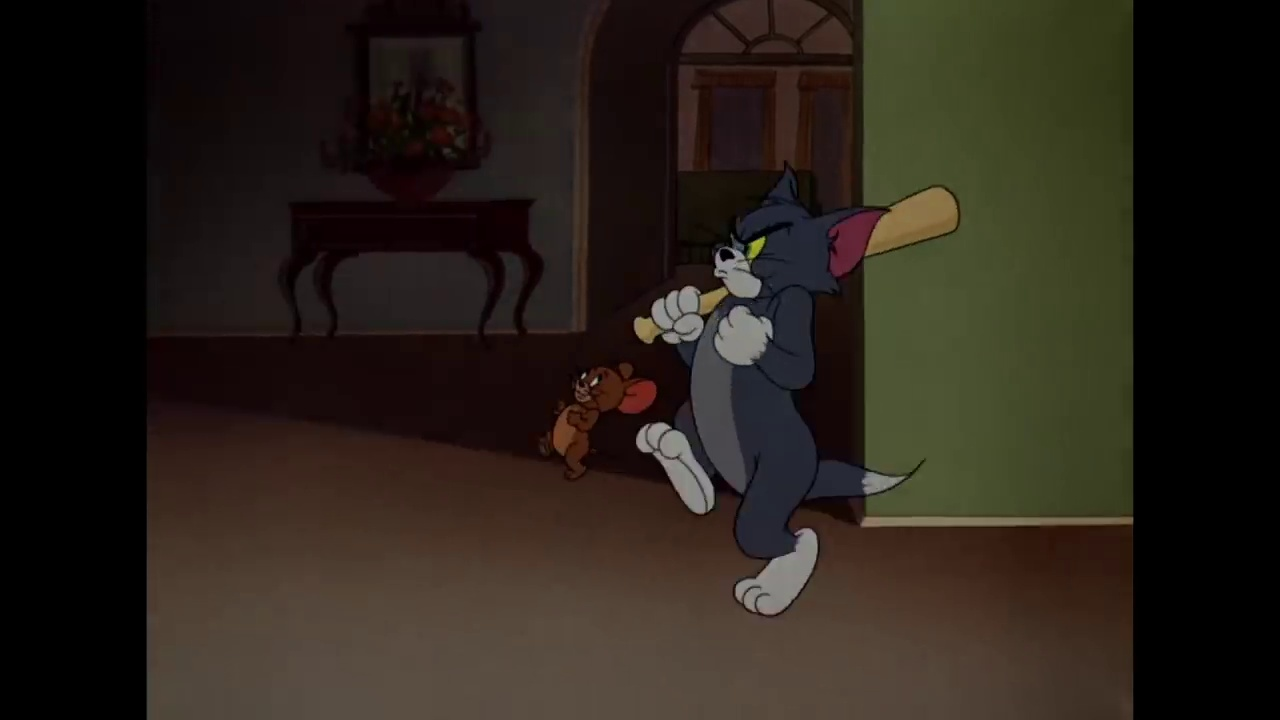tom: (707, 160, 888, 304)
